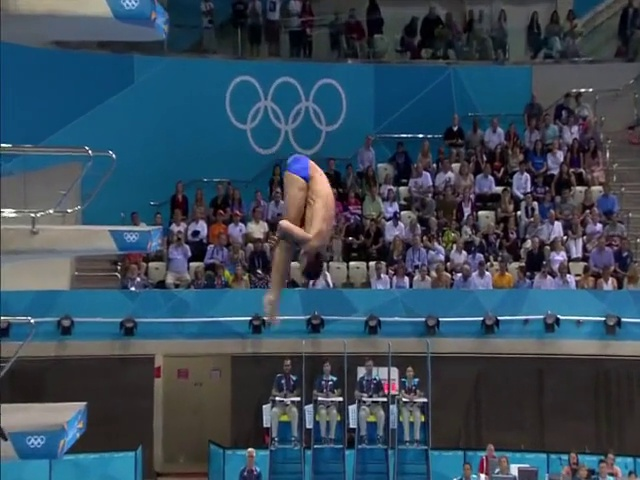diver: (262, 152, 335, 327)
